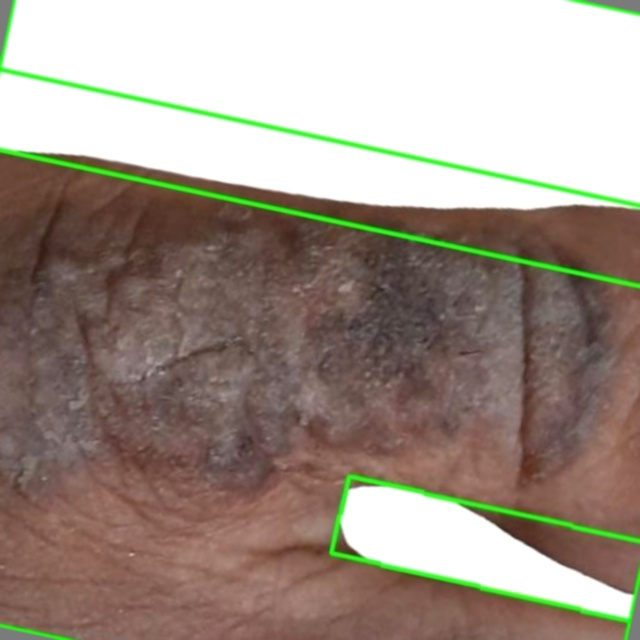Contact Dermatitis: (0, 69, 639, 639), (0, 0, 639, 286), (330, 476, 639, 621)
